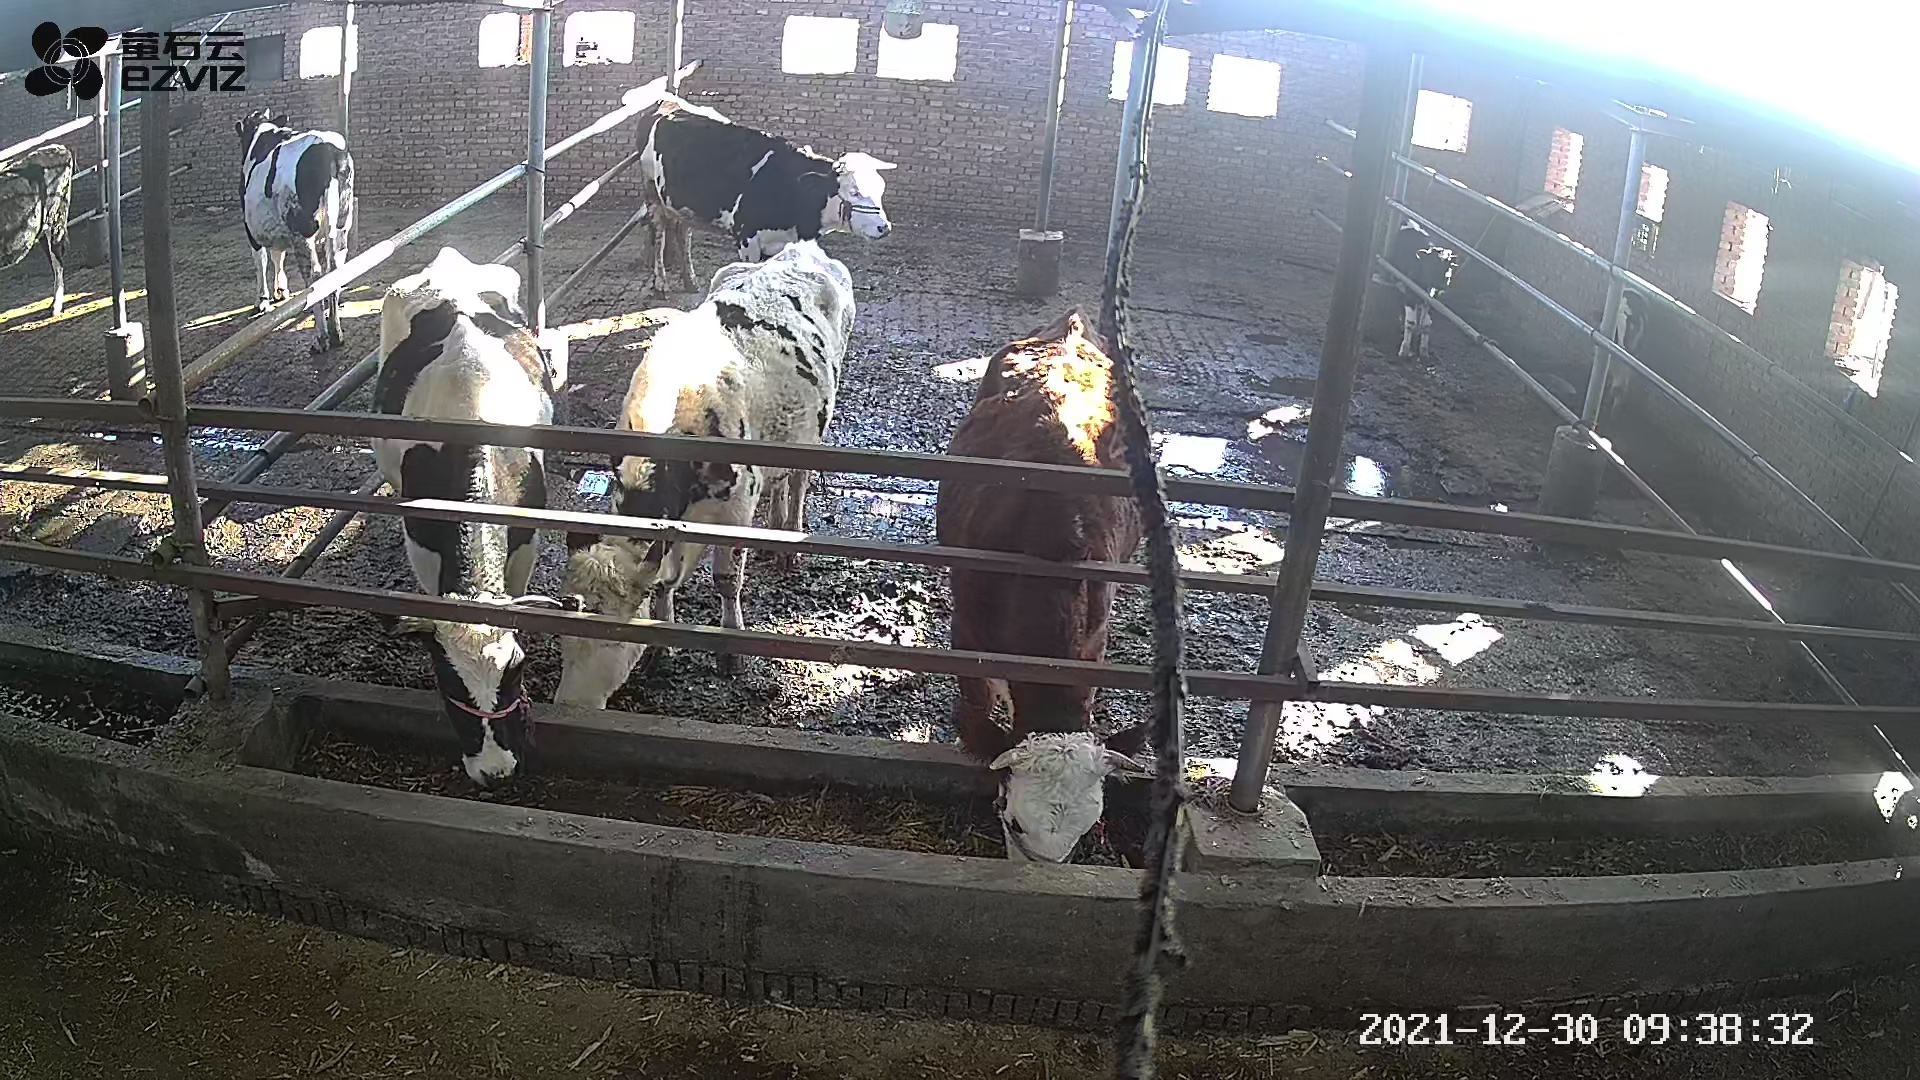cow: (553, 236, 856, 712), (934, 301, 1145, 862), (368, 247, 563, 790), (633, 91, 899, 301)
